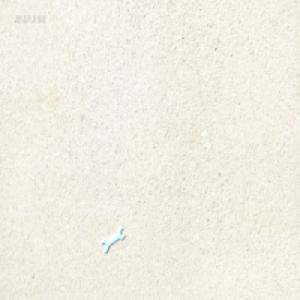Wrench: (102, 223, 125, 252)
